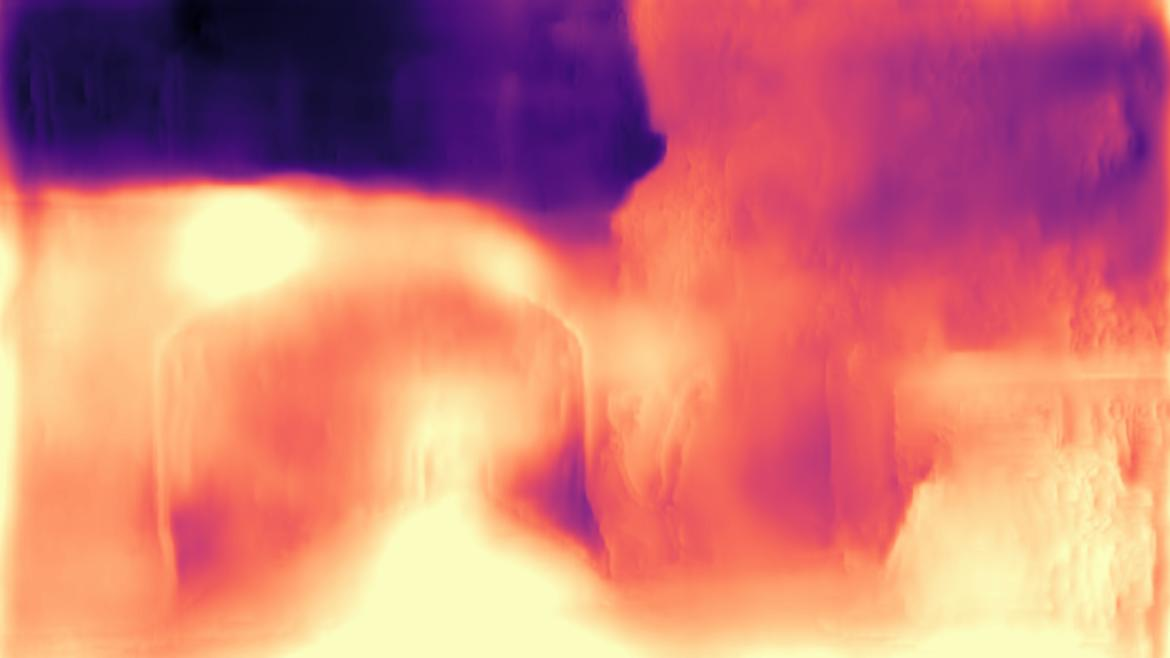painting: (146, 275, 619, 608)
